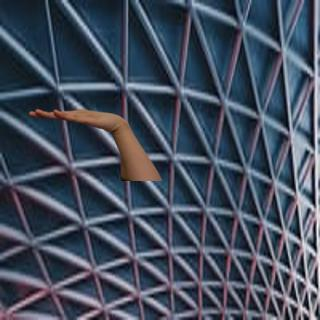WAIT: (24, 99, 122, 132)
